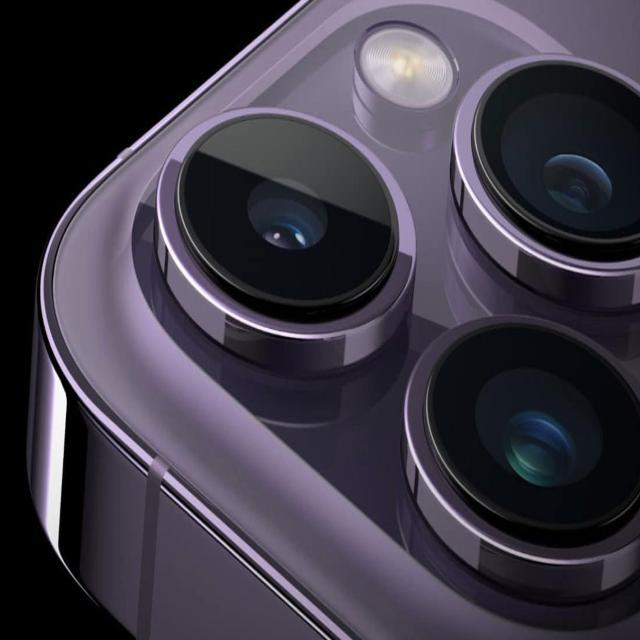hidden camera: (422, 317, 640, 578), (163, 108, 409, 339), (467, 48, 640, 294)
